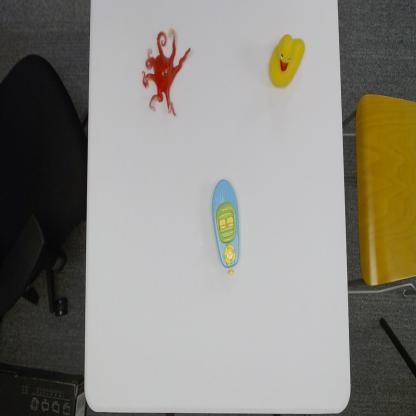Boat: (210, 178, 242, 278)
Duck: (267, 32, 306, 90)
Octopus: (141, 27, 192, 117)
